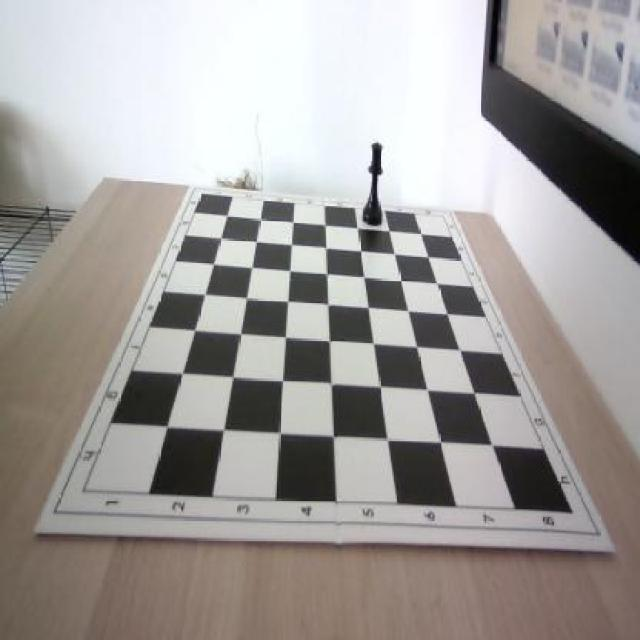black-pawn: (362, 140, 386, 228)
